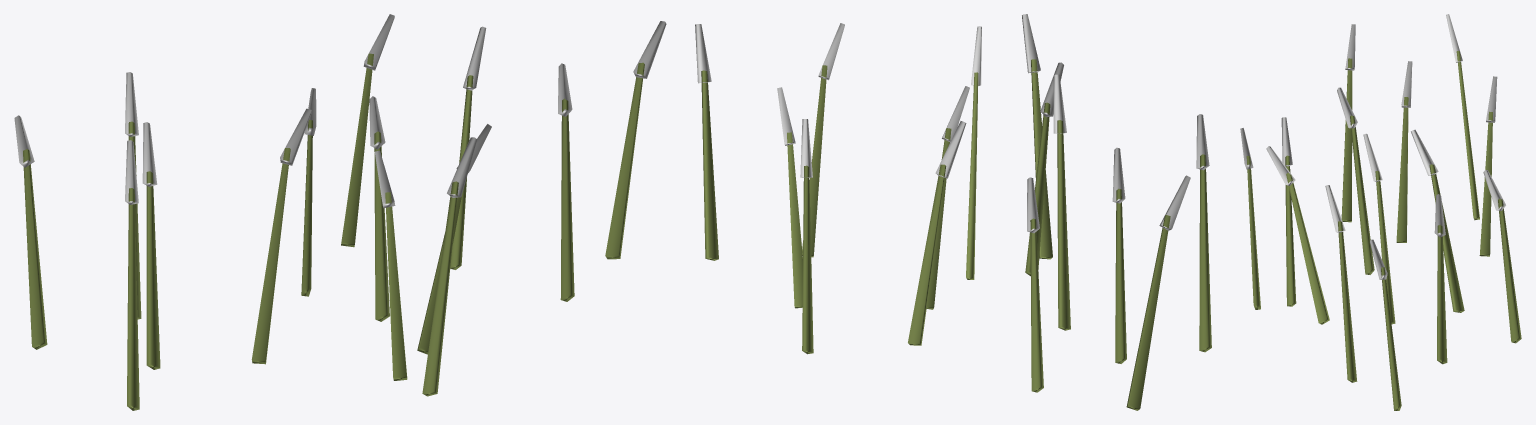
File: farm_grain_stage4.glb
The picture shows the model from 3 angles, left to right: view 1: azimuth 30°, elevation 25°; view 2: azimuth 150°, elevation 25°; view 3: azimuth 270°, elevation 25°; orthographic projection. The views are drawn at different scales.
Visible parts, largest first — view 1: FarmBody, CropAccent; view 2: FarmBody, CropAccent; view 3: FarmBody, CropAccent.
Part boxes in pixels (left/top/right/bottom): FarmBody: left=23, top=53, right=644, bottom=410; CropAccent: left=14, top=14, right=666, bottom=208; FarmBody: left=701, top=59, right=1211, bottom=410; CropAccent: left=695, top=14, right=1209, bottom=233; FarmBody: left=1246, top=51, right=1521, bottom=410; CropAccent: left=1240, top=14, right=1505, bottom=279.
Size of the model in its own units: 2.54 by 1.07 by 1.38.
